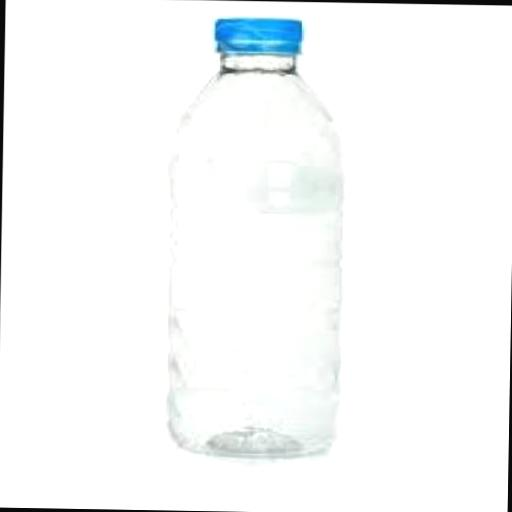plastic: (167, 12, 348, 456), (214, 10, 306, 54)
